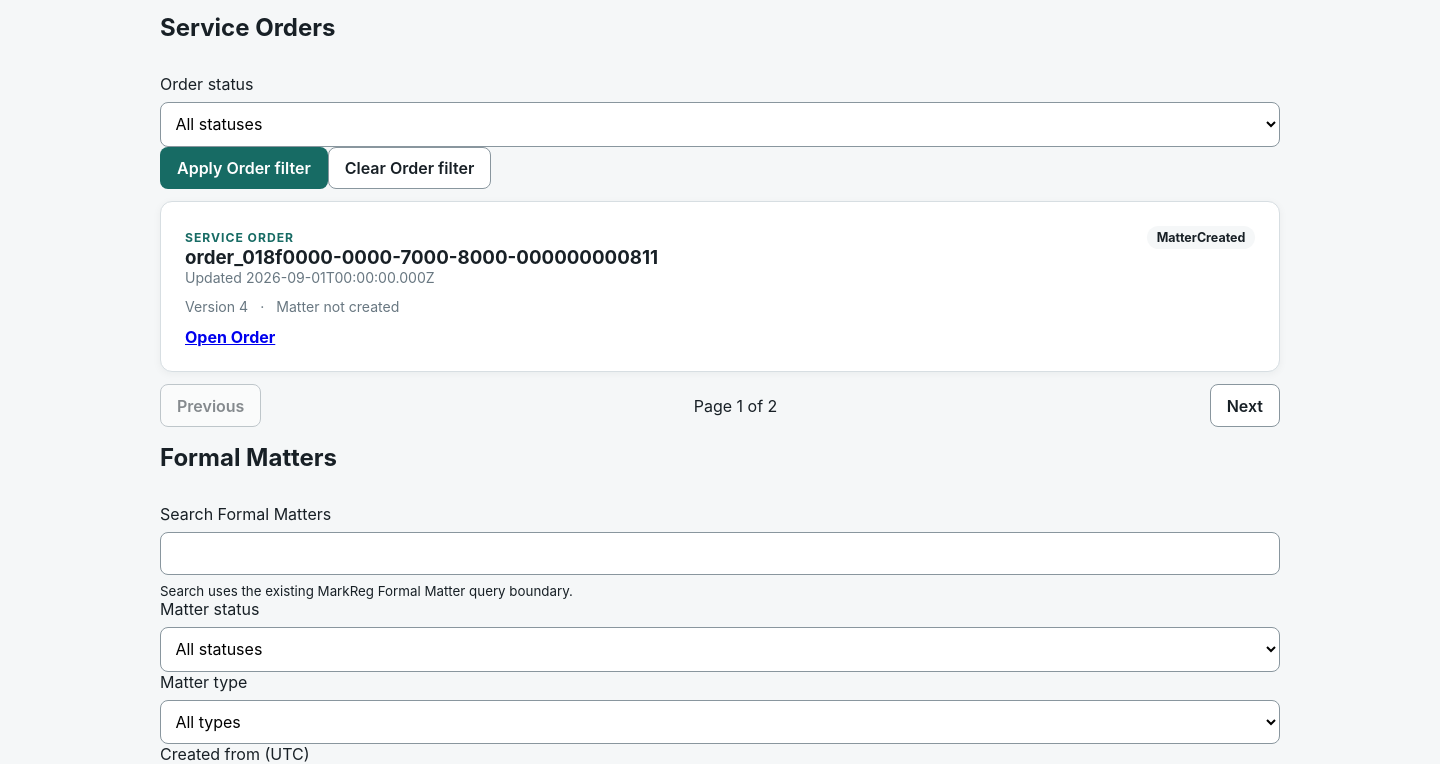
MarkReg Workspace Home Service Order status filter › applies and clears canonical Order status without reloading Formal Matters
The image size is (1440, 764).
(page scrolled)
Check: the heading "order_018f0000-0000-7000-8000-000000000811" is shown, box [185,246,658,269]
Click the button "Next".
click(1245, 406)  # box [1210,384,1280,427]
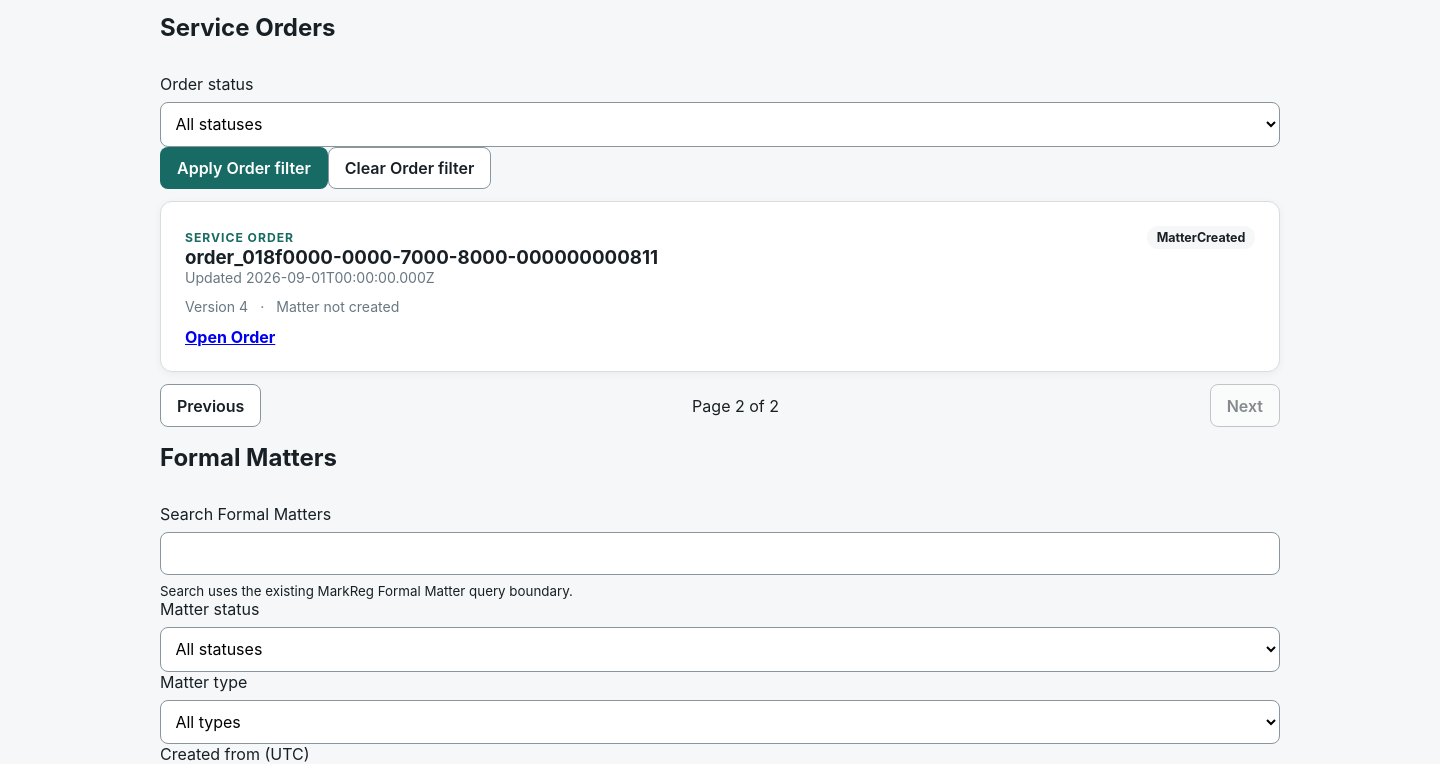
Select "Completed" in the dropdown labelled "Order status" at (720, 124), box [160,102,1280,147]
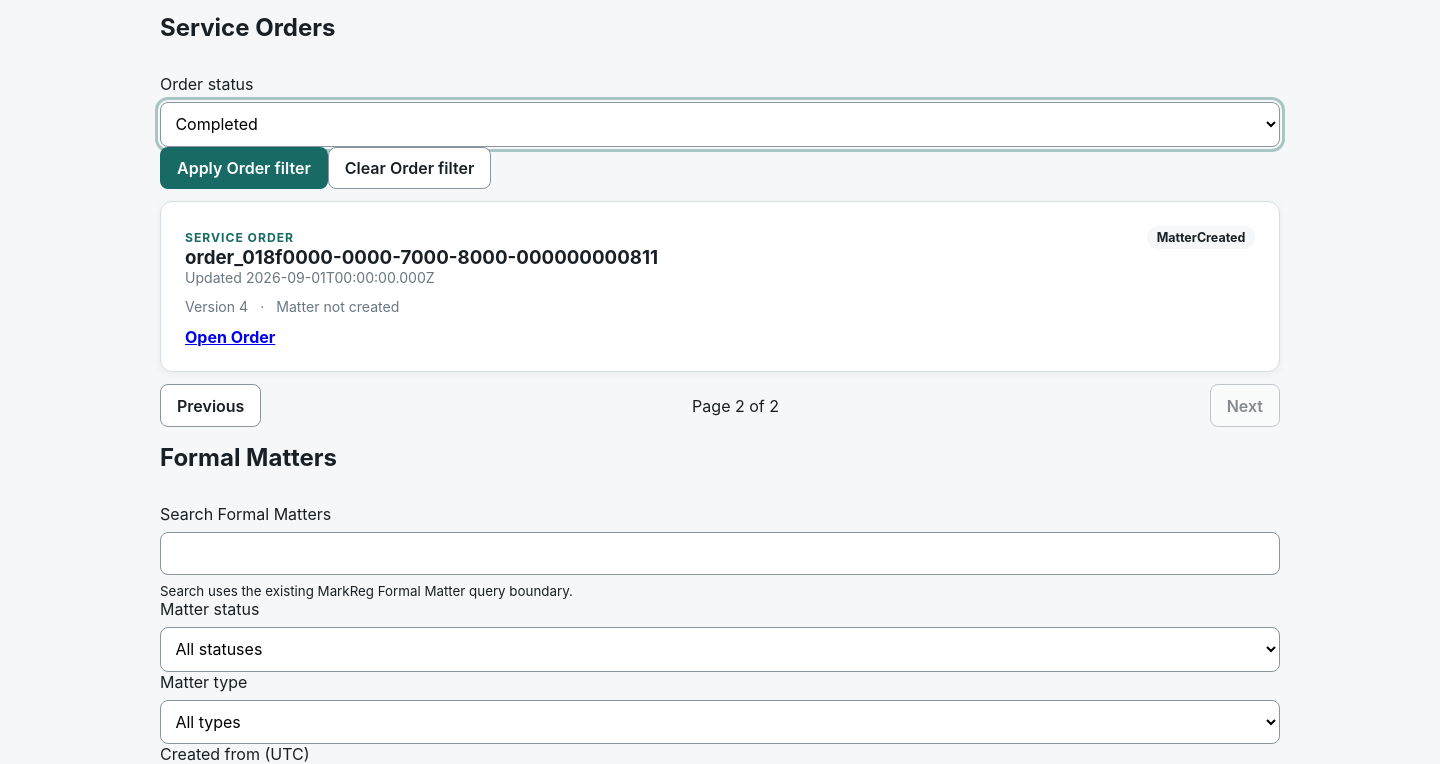
Click the button "Apply Order filter".
click(244, 168)  # box [160,147,328,189]
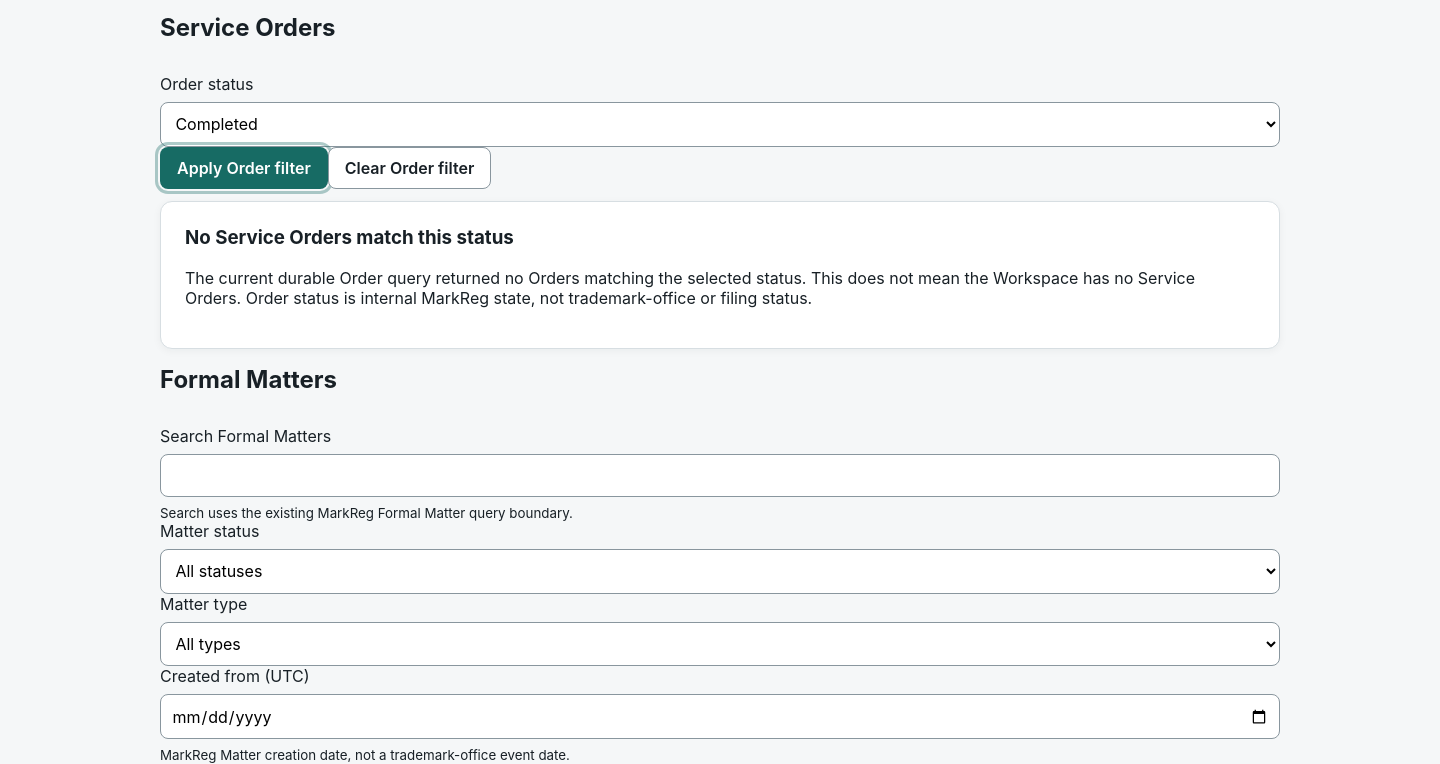
Check: the heading "No Service Orders match this status" is shown, box [185,226,514,249]
Click the button "Clear Order filter".
click(409, 168)  # box [328,147,491,189]
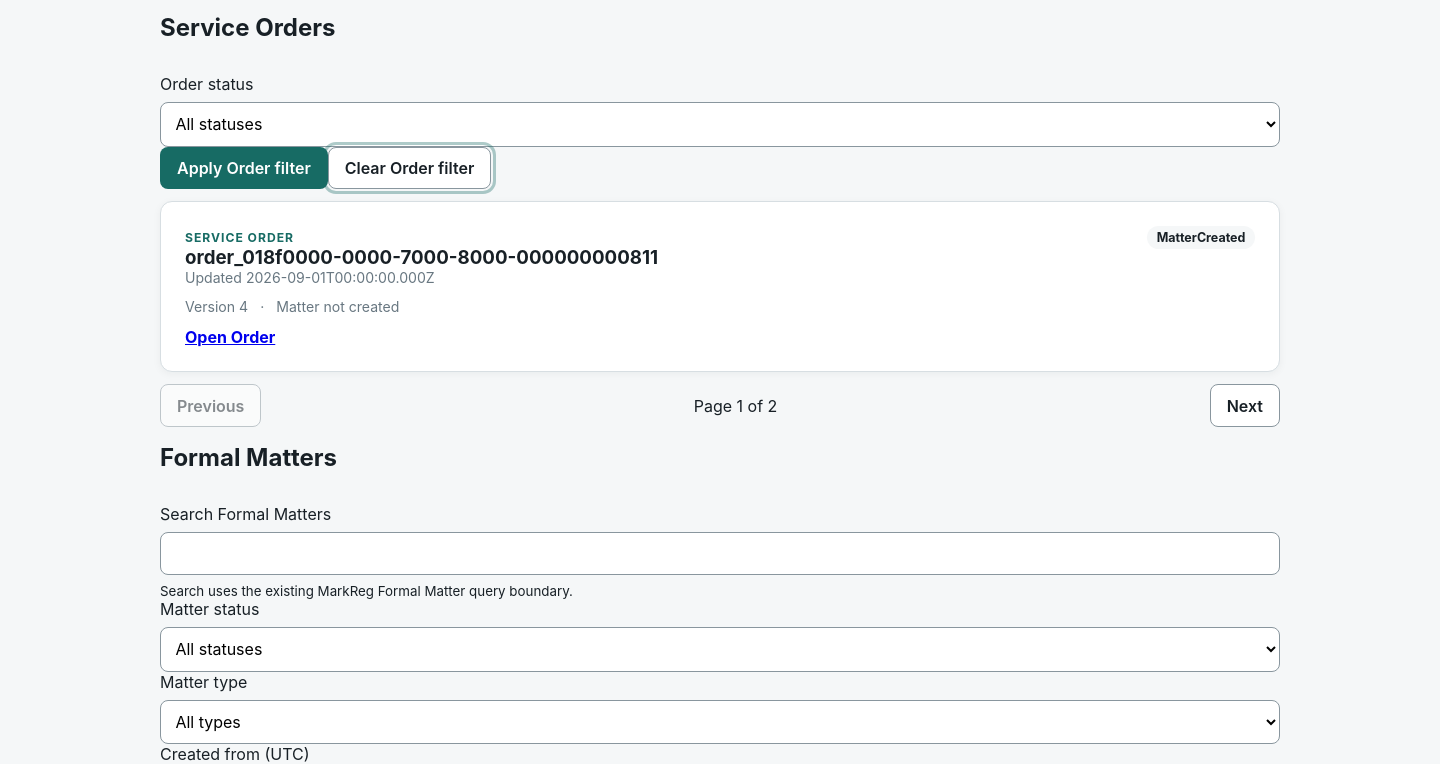
Check: the heading "order_018f0000-0000-7000-8000-000000000811" is shown, box [185,246,658,269]
